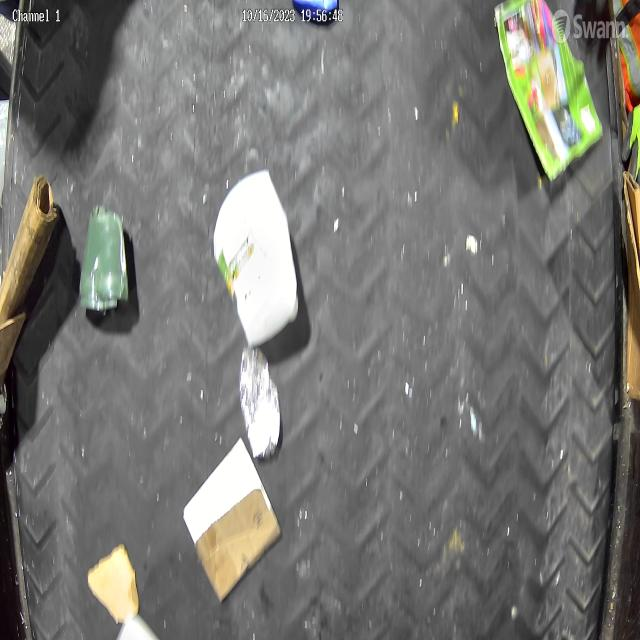can: (228, 342, 283, 460), (78, 196, 129, 320)
milk_jug: (212, 171, 304, 347)
